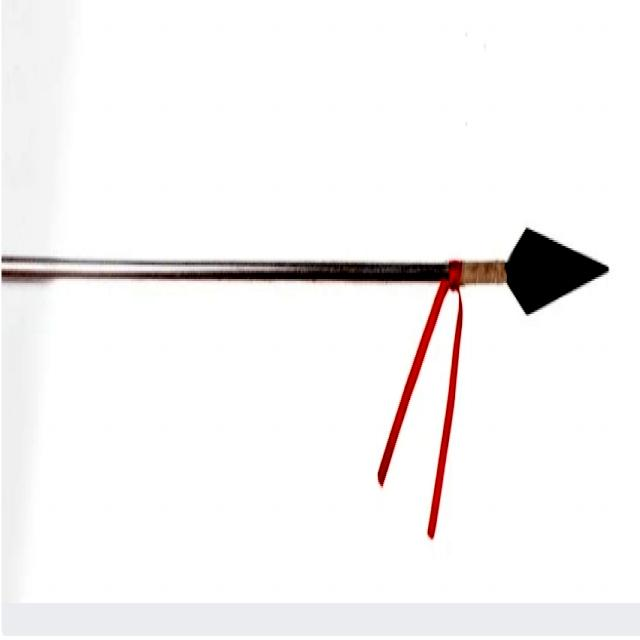spear: (1, 176, 612, 550)
